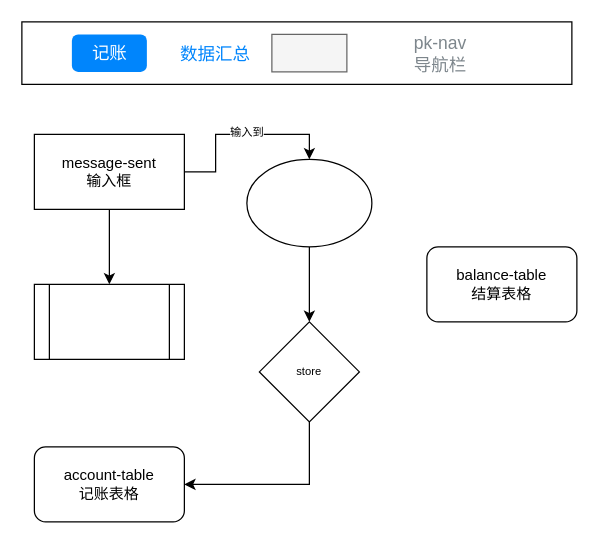
This 599x544 diagram has some shape labels left out. Each missing label, with the centre of its shape:
"reducer" belongs at [309,202].
"信息流" belongs at [108,321].
"信息（暂无）" belongs at [309,52].
